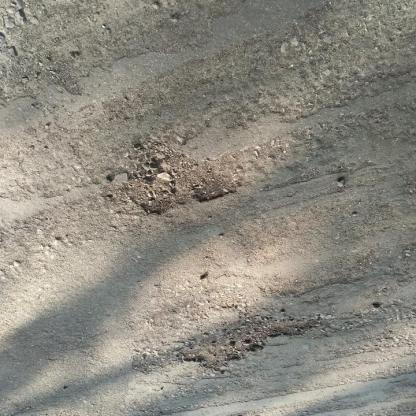pothole: (126, 135, 242, 220), (175, 309, 322, 375)
